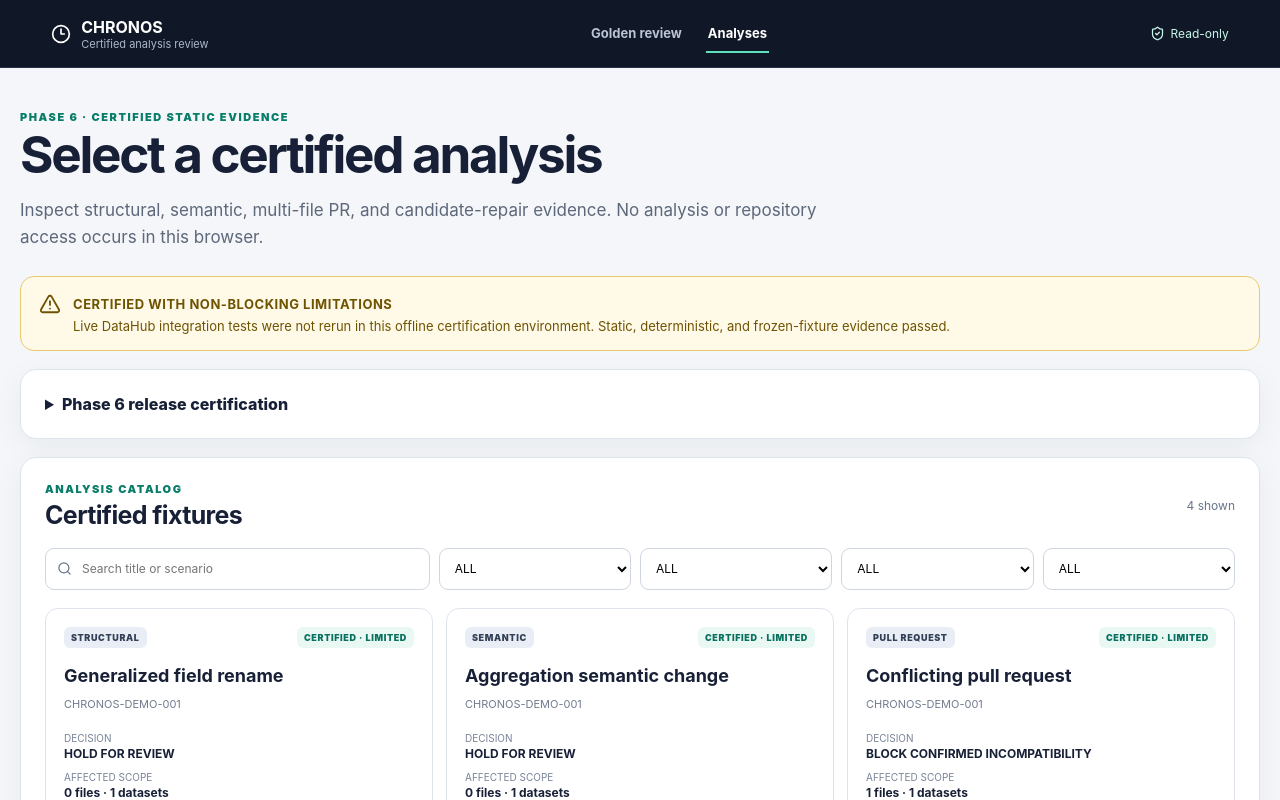
Test case: Phase 6 certified analysis index › filters the catalog by analysis type
Expected: the heading "Generalized field rename" is shown, x1=64 y1=665 x2=284 y2=686
Select "REPAIR" in the dropdown named "Filter by type": (535, 569) x1=439 y1=548 x2=631 y2=590
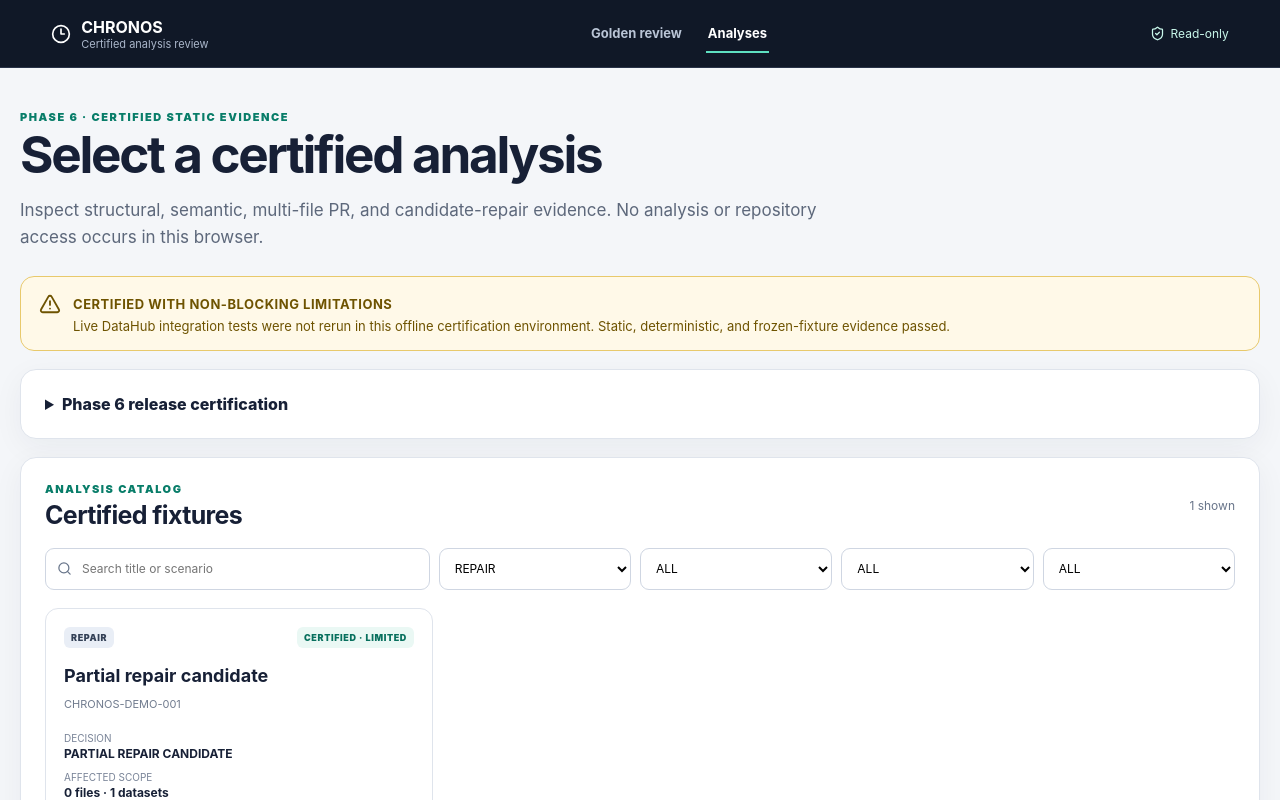
Expected: the heading "Partial repair candidate" is shown, x1=64 y1=665 x2=268 y2=686
Expected: the link "Generalized field rename" is gone
